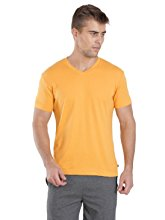Tshirts: (37, 48, 131, 195)
